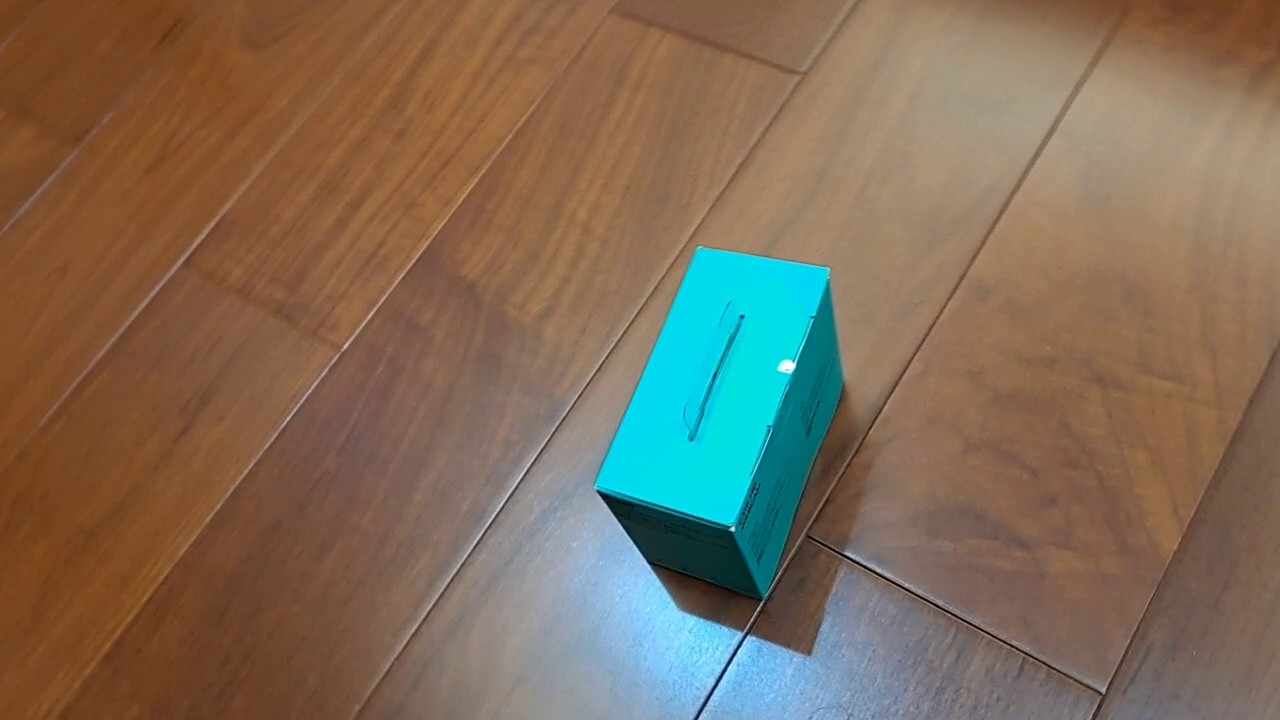webcam: (592, 245, 846, 602)
